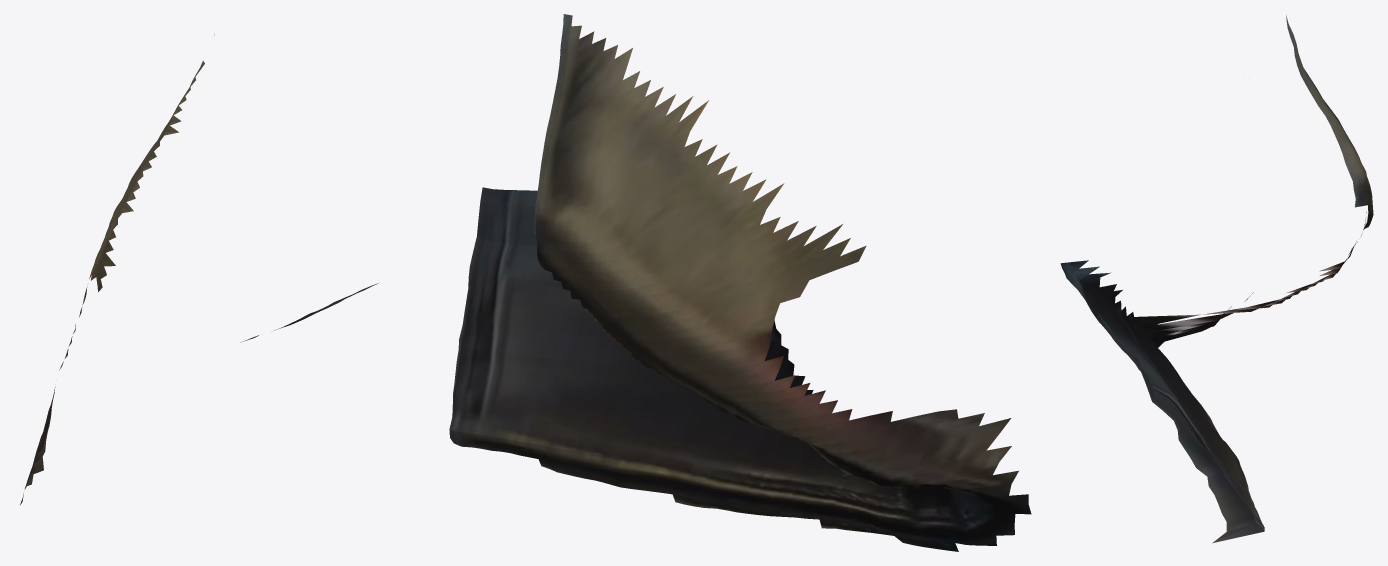
The model's file is observed-surface.glb.
The picture shows the model from 3 angles, left to right: view 1: azimuth 30°, elevation 25°; view 2: azimuth 150°, elevation 25°; view 3: azimuth 270°, elevation 25°; orthographic projection. The views are drawn at different scales.
Visible parts, largest first — view 1: geometry_0; view 2: geometry_0; view 3: geometry_0.
Part boxes in pixels (x1=…): geometry_0: x1=20, y1=34, x2=378, y2=504; geometry_0: x1=449, y1=14, x2=1031, y2=551; geometry_0: x1=1060, y1=15, x2=1373, y2=543.
Size of the model in its own units: 0.7409 by 0.7066 by 0.3845.
Materials: 1 (1 with a texture image).
